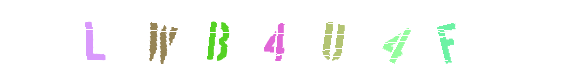4: (236, 0, 316, 80), (267, 0, 347, 80)
B: (177, 0, 257, 80)
F: (377, 0, 457, 80)
L: (65, 0, 145, 80)
U: (248, 0, 328, 80)
W: (120, 0, 200, 80)
